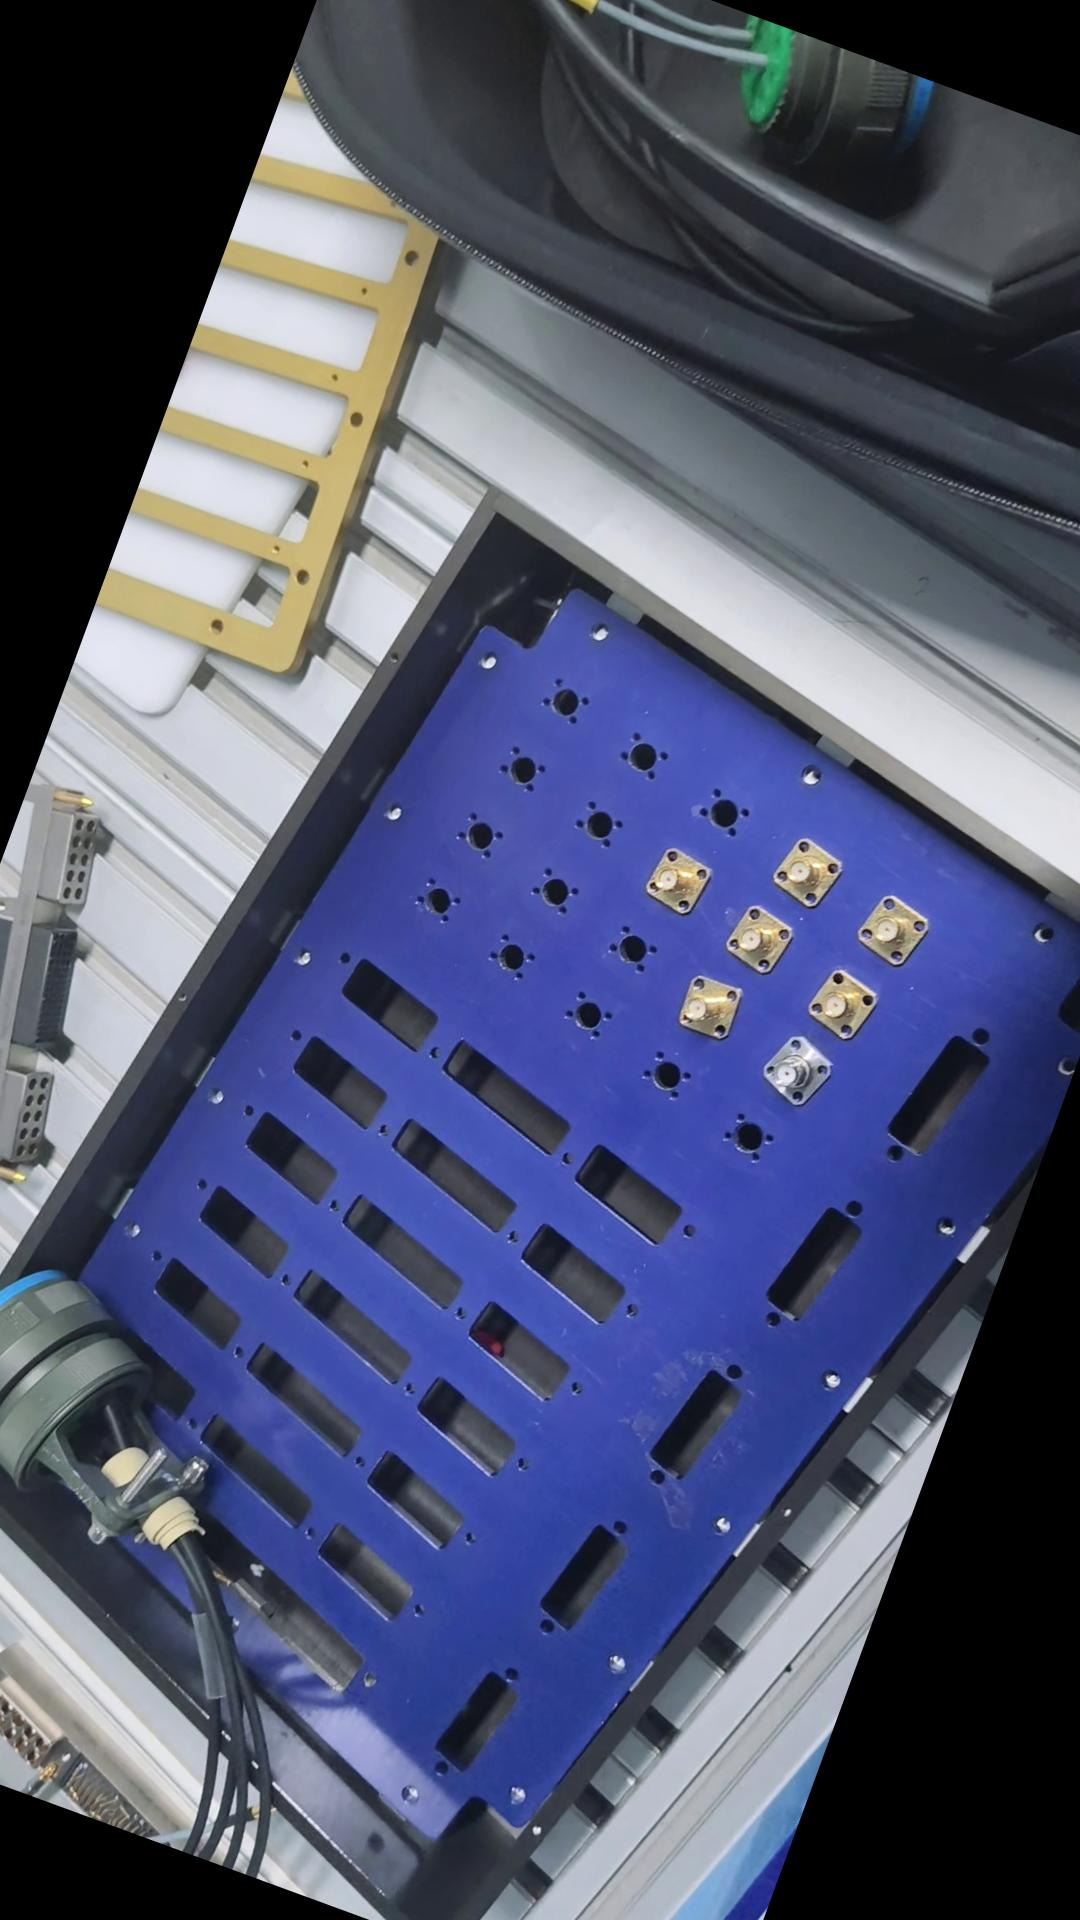SMA: (753, 829, 851, 915), (752, 1026, 843, 1114), (796, 955, 885, 1040), (628, 837, 719, 920), (712, 898, 803, 978), (851, 885, 932, 969), (665, 967, 745, 1044)
